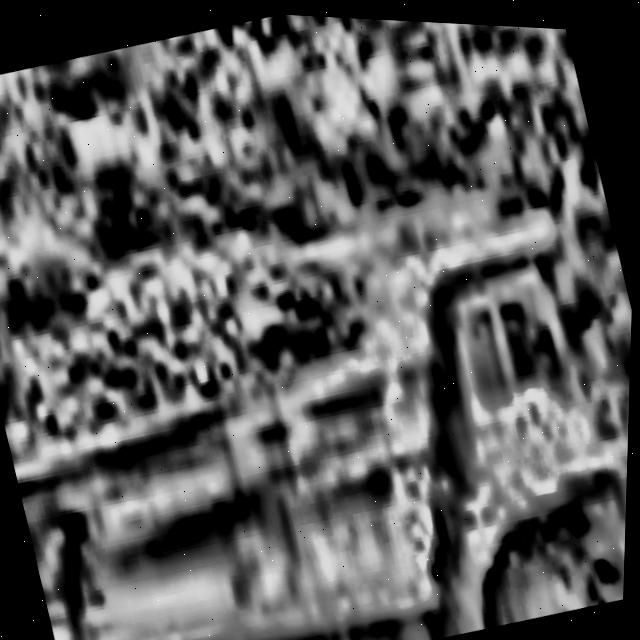dump_truck: (0, 105, 638, 640)
